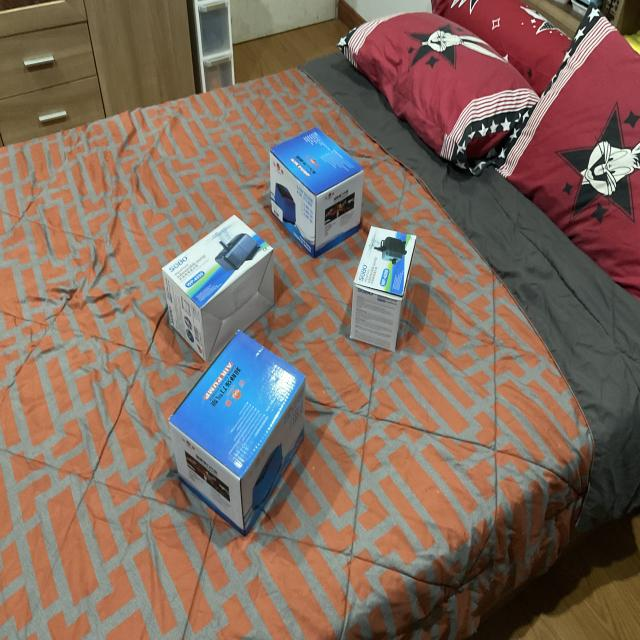SOBO_WP_4200: (159, 210, 279, 358), (348, 216, 424, 358)
YAMANO_LPP_20: (165, 330, 319, 542), (268, 122, 368, 250)
